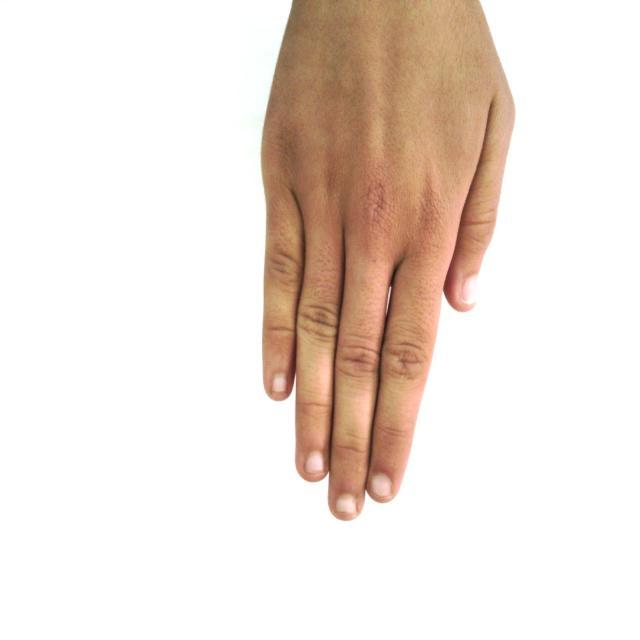Fingernail: (371, 473, 391, 496), (336, 493, 357, 513), (463, 275, 478, 303), (305, 451, 324, 473), (272, 371, 288, 392)
